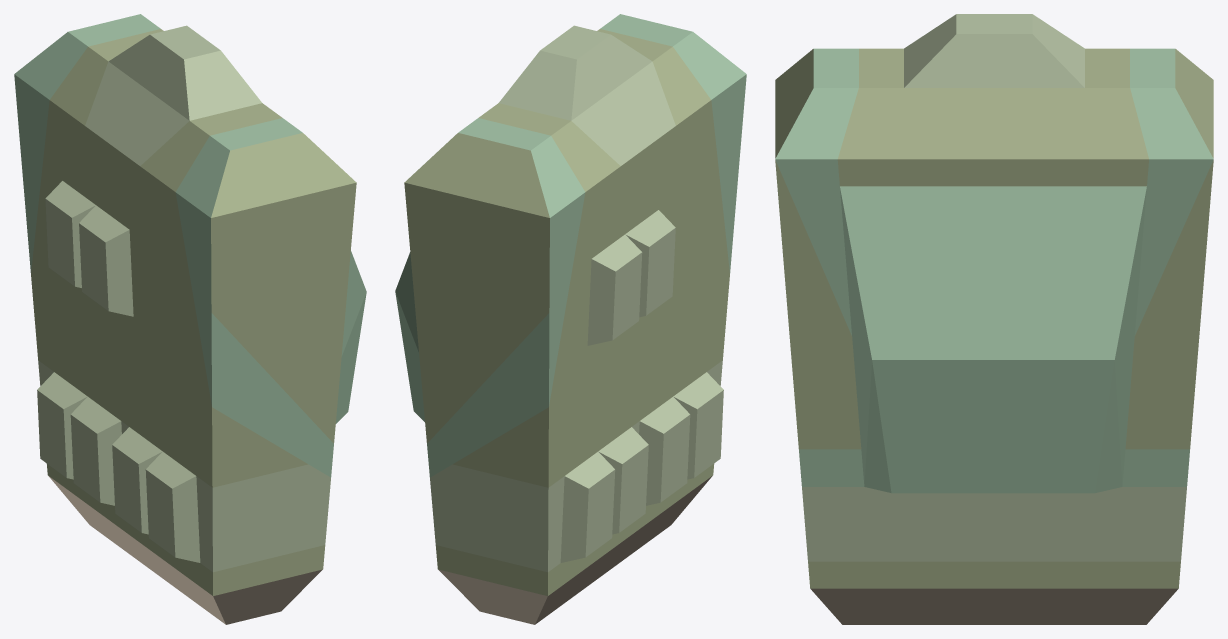
File: Bandit4Torso.fbx
The picture shows the model from 3 angles, left to right: view 1: azimuth 30°, elevation 25°; view 2: azimuth 150°, elevation 25°; view 3: azimuth 270°, elevation 25°; orthographic projection. The views are drawn at different scales.
Visible parts, largest first — view 1: Bandit4Torso; view 2: Bandit4Torso; view 3: Bandit4Torso.
Part boxes in pixels (left/top/right/bottom): Bandit4Torso: left=14, top=14, right=366, bottom=624; Bandit4Torso: left=395, top=14, right=746, bottom=624; Bandit4Torso: left=775, top=14, right=1213, bottom=624.
Bounding box in the file's own units: 0.3084 × 0.7157 × 0.4856.
